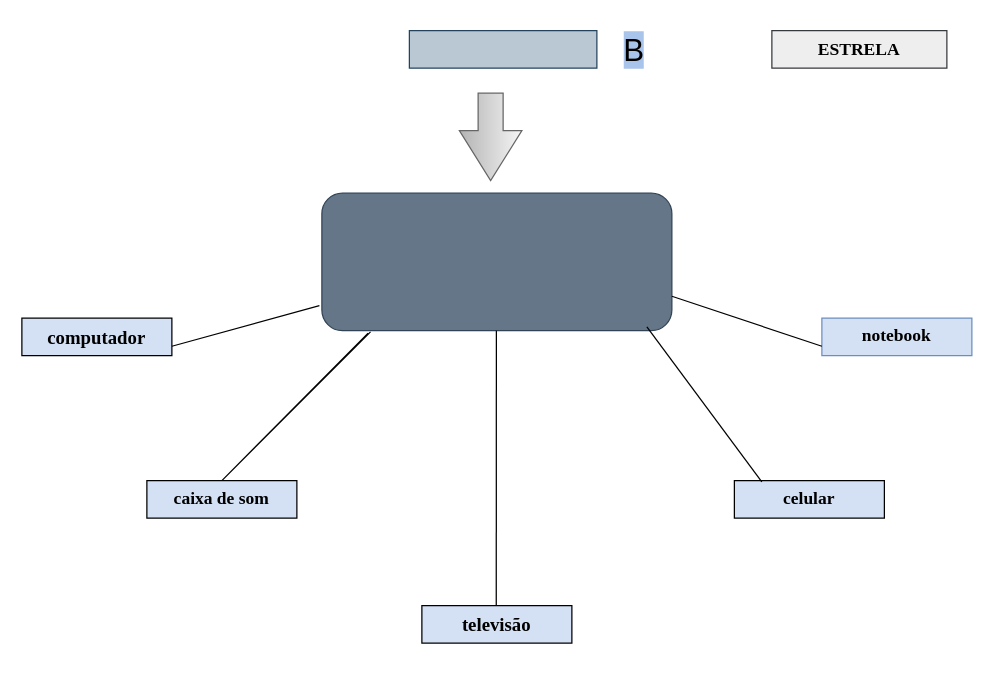
This 994x683 diagram has some shape labels left out. Here are the shapes that lost their labels. From the top down, the centre of each, then its label:
At [502,48]: "DIAGRAMA".
At [496,261]: "roteador".
